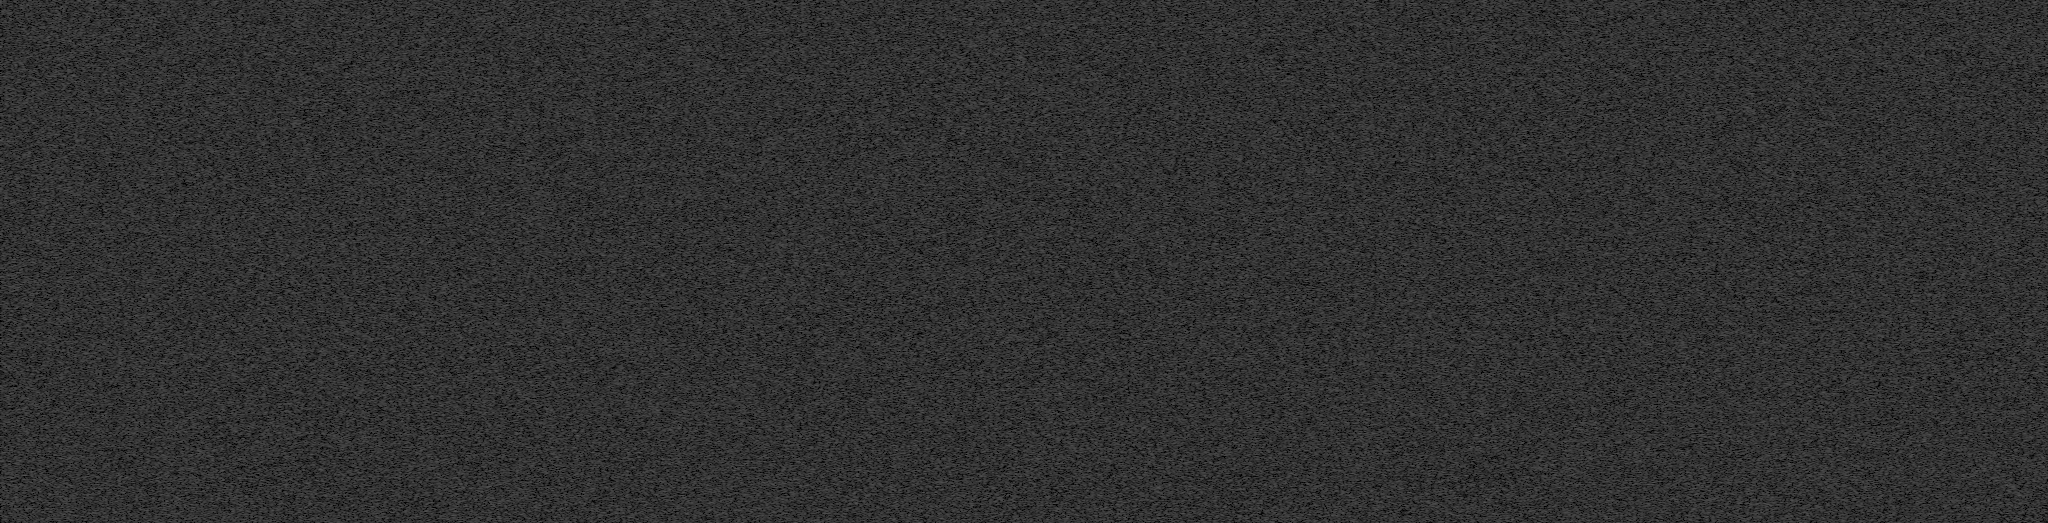wv_am: (1618, 339, 1638, 523), (1558, 0, 1563, 357), (1549, 0, 1554, 309), (1557, 358, 1563, 523), (1625, 180, 1631, 339), (1625, 0, 1631, 101), (1548, 441, 1556, 523), (1625, 157, 1631, 180), (1549, 358, 1554, 384), (1625, 102, 1631, 116), (1625, 143, 1631, 156), (1625, 118, 1631, 131), (1549, 343, 1554, 357), (1549, 316, 1554, 329), (1549, 418, 1554, 431), (1549, 386, 1554, 396), (1625, 132, 1631, 140), (1549, 332, 1554, 341), (1549, 407, 1554, 416), (1549, 433, 1554, 441), (1549, 399, 1554, 405), (1549, 310, 1554, 315)
wv_cw: (1549, 0, 1592, 523), (742, 0, 763, 523)
wv_lsb: (1422, 348, 1435, 523), (1490, 251, 1496, 437), (1426, 226, 1432, 346), (1426, 3, 1432, 119), (1490, 27, 1496, 133), (1426, 120, 1432, 208), (1490, 438, 1496, 473), (1426, 209, 1432, 225), (1490, 149, 1496, 163), (1490, 133, 1496, 146), (1492, 477, 1496, 490), (1492, 165, 1496, 178), (1492, 186, 1496, 194), (1492, 492, 1496, 498), (1492, 235, 1494, 243), (1492, 509, 1494, 515), (1492, 217, 1494, 224), (1492, 503, 1494, 509), (1492, 245, 1494, 250), (1492, 201, 1494, 207), (1492, 516, 1494, 520), (1492, 499, 1496, 502), (1492, 231, 1494, 235), (1492, 208, 1494, 212)
wv_usb: (1280, 201, 1287, 278), (1280, 377, 1285, 429), (1280, 285, 1285, 333), (1280, 115, 1285, 161), (1280, 469, 1285, 503), (1280, 29, 1285, 60), (1574, 341, 1579, 367), (1575, 390, 1579, 405), (1280, 366, 1285, 377), (1280, 335, 1285, 345), (1280, 162, 1285, 173), (1280, 503, 1285, 513), (1281, 346, 1285, 358), (1575, 184, 1579, 195), (1280, 360, 1285, 365), (1280, 278, 1285, 284), (1575, 443, 1579, 450), (1575, 367, 1579, 374), (1281, 88, 1284, 97), (1575, 458, 1579, 463), (1575, 451, 1579, 456), (1575, 333, 1579, 339), (1575, 417, 1578, 424), (1575, 377, 1578, 383), (1575, 384, 1579, 388), (1575, 473, 1578, 479), (1575, 196, 1578, 201), (1281, 513, 1284, 518), (1281, 450, 1284, 455), (1281, 101, 1284, 106), (1281, 65, 1284, 71), (1281, 16, 1284, 21), (1575, 486, 1578, 490), (1575, 482, 1578, 486), (1575, 429, 1578, 433), (1575, 424, 1578, 428), (1575, 411, 1578, 414), (1575, 407, 1578, 411), (1575, 214, 1578, 218), (1575, 207, 1578, 211), (1281, 465, 1284, 469), (1281, 430, 1284, 434), (1281, 179, 1284, 183), (1281, 174, 1284, 178), (1281, 10, 1284, 14), (1575, 465, 1578, 468), (1575, 438, 1578, 441), (1575, 252, 1578, 255), (1575, 56, 1578, 59), (1575, 46, 1578, 48), (1281, 520, 1284, 523), (1281, 456, 1284, 459), (1281, 446, 1284, 448), (1281, 82, 1284, 85), (1281, 73, 1284, 76), (1281, 22, 1284, 25)
